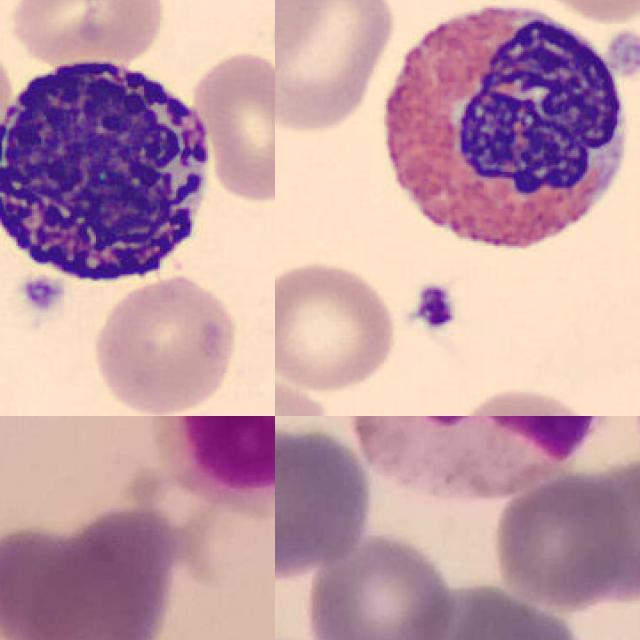Basophil: (0, 45, 222, 292)
Eosinophil: (362, 0, 640, 270)
Lymphocyte: (151, 416, 275, 515)
Neutrophil: (348, 416, 623, 496)
Platelets: (409, 280, 459, 331), (14, 273, 68, 317)
RBC: (89, 270, 240, 416), (275, 254, 400, 394), (275, 0, 400, 136), (188, 46, 275, 203), (9, 0, 167, 66), (450, 383, 610, 416), (275, 371, 348, 416)
